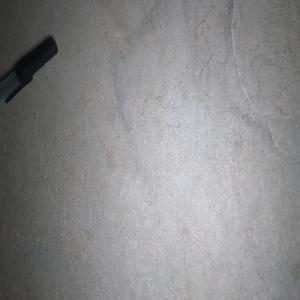Pen: (0, 36, 57, 103)
